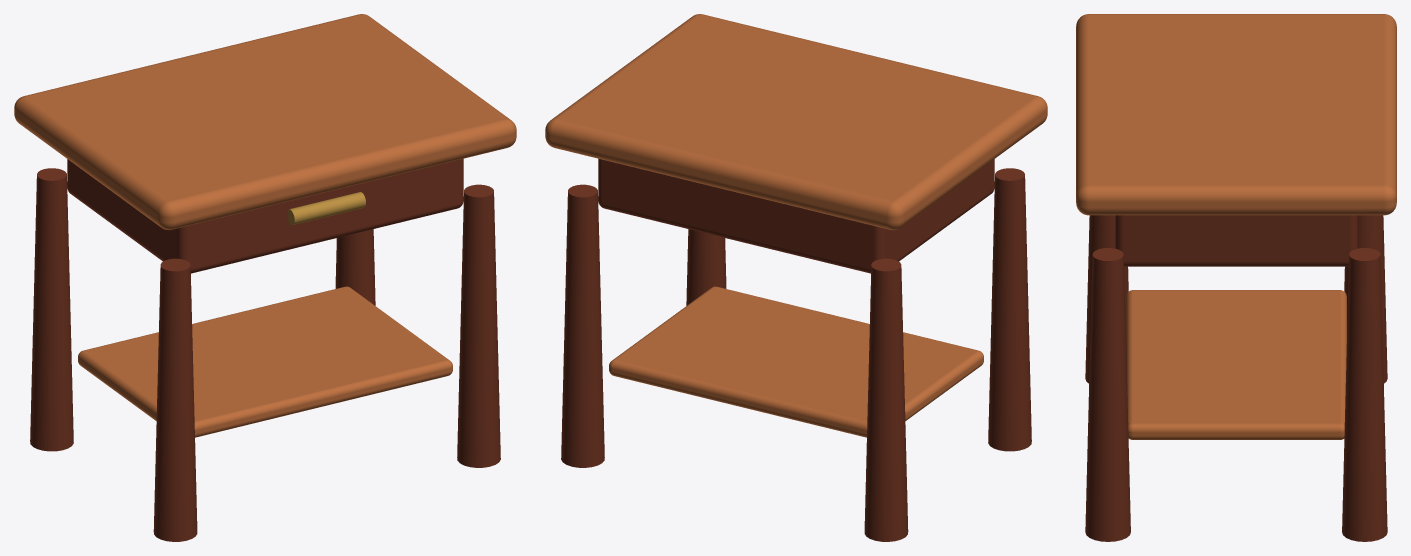
The model's file is mesa-auxiliar.glb.
The picture shows the model from 3 angles, left to right: view 1: azimuth 30°, elevation 25°; view 2: azimuth 150°, elevation 25°; view 3: azimuth 270°, elevation 25°; orthographic projection. The views are drawn at different scales.
Visible parts, largest first — view 1: Tablero biselado, Pata torneada (×4), Repisa inferior, Cajón, Tirador; view 2: Tablero biselado, Pata torneada (×4), Repisa inferior, Cajón; view 3: Tablero biselado, Repisa inferior, Pata torneada (×4), Cajón.
Boxes of the visible parts, bbox=[...] form: Tablero biselado: bbox=[14, 14, 516, 230]; Pata torneada (×4): bbox=[30, 168, 500, 541]; Repisa inferior: bbox=[78, 286, 452, 437]; Cajón: bbox=[67, 158, 463, 273]; Tirador: bbox=[288, 192, 365, 225]; Tablero biselado: bbox=[545, 14, 1047, 230]; Pata torneada (×4): bbox=[561, 168, 1031, 541]; Repisa inferior: bbox=[609, 286, 983, 437]; Cajón: bbox=[598, 158, 994, 273]; Tablero biselado: bbox=[1076, 14, 1396, 215]; Repisa inferior: bbox=[1126, 290, 1346, 439]; Pata torneada (×4): bbox=[1085, 215, 1387, 541]; Cajón: bbox=[1115, 215, 1357, 266].
Size of the model in its own units: 0.6 by 0.55 by 0.45.
